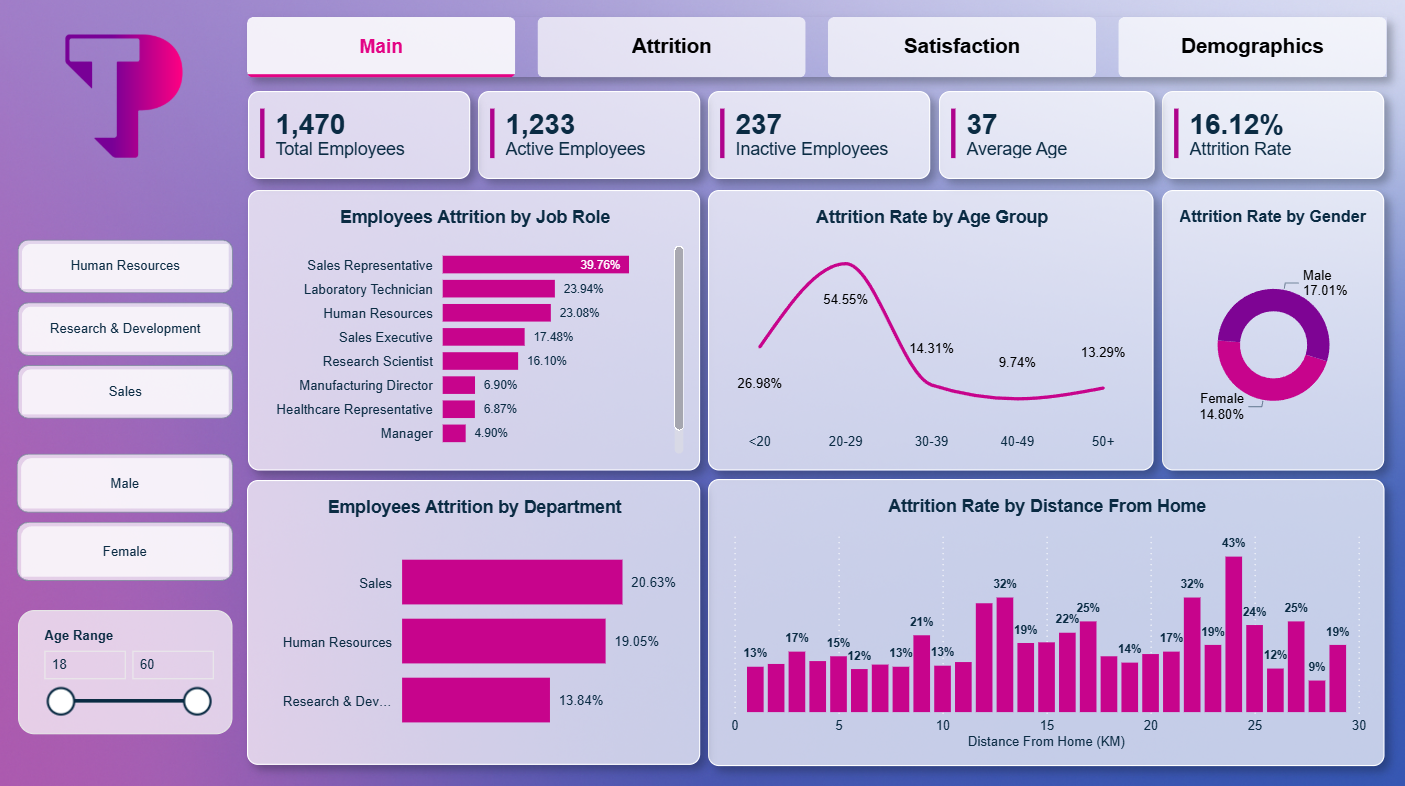

This screenshot's page, from the dashboard's own definition file:
{"tool":"powerbi","page":{"name":"Employee Attrition and Satisfaction","canvas":[1280,720],"ordinal":0},"visuals":[{"type":"multiRowCard","title":"Attrition Rate","fields":{"Values":["DAX Measures.Attrition Rate"]},"box":[1058,86,202,79.9],"z":0},{"type":"bookmarkNavigator","box":[226,19,1036,55],"z":1000},{"type":"multiRowCard","title":"Inactive Employees","fields":{"Values":["DAX Measures.InactiveEmployees"]},"box":[645.8,86,202,79.9],"z":2000},{"type":"multiRowCard","title":"Active Employees","fields":{"Values":["DAX Measures.ActiveEmployees"]},"box":[436.6,86,202,79.9],"z":3000},{"type":"clusteredBarChart","title":"Employees Attrition by Job Role","fields":{"Category":["FactEmployee.JobRole"],"Y":["DAX Measures.AttritionRate"]},"box":[227.3,176.4,410.9,254.5],"z":4000},{"type":"donutChart","title":"Attrition Rate by Gender","fields":{"Category":["FactEmployee.Gender"],"Y":["DAX Measures.Attrition Rate"]},"box":[1058.2,176.4,201.8,254.5],"z":5000},{"type":"lineChart","title":"Attrition Rate by Age Group","fields":{"Category":["FactEmployee.AgeBins"],"Y":["DAX Measures.Attrition Rate"]},"box":[645.5,176.4,405.5,254.5],"z":7000},{"type":"multiRowCard","title":"Average Age","fields":{"Values":["DAX Measures.AvgAge"]},"box":[855,86,195.8,79.9],"z":12000},{"type":"columnChart","title":"Attrition Rate by Distance From Home","fields":{"Y":["DAX Measures.Attrition Rate"],"Category":["FactEmployee.DistanceFromHome"]},"box":[645.5,439.1,614.5,260.9],"z":13000},{"type":"advancedSlicerVisual","fields":{"Values":["Department.Department"]},"box":[12.9,206.4,206.4,195],"z":14000},{"type":"advancedSlicerVisual","fields":{"Values":["FactEmployee.Gender"]},"box":[12.2,401.2,207.2,147.5],"z":15000},{"type":"clusteredBarChart","title":"Employees Attrition by Department","fields":{"Y":["DAX Measures.AttritionRate"],"Category":["FactEmployee.Department Hierarchy.Department","FactEmployee.Department Hierarchy.JobRole"]},"box":[226.4,440,411.8,259.1],"z":17000},{"type":"image","box":[0,20,228.2,141.8],"z":19000},{"type":"multiRowCard","title":"Total Employees","fields":{"Values":["DAX Measures.TotalEmployees"]},"box":[227.4,86,202,79.9],"z":20000},{"type":"slicer","fields":{"Values":["FactEmployee.Age"]},"box":[18.2,558.2,195.5,112.7],"z":33000}]}

Visuals, with their boxes in screenshot pixels (x1, y1, x2, y2), scaled from the page's 1280x720 canvas onto the 1405x786 screenshot:
"Attrition Rate" multiRowCard: x1=1161, y1=94, x2=1383, y2=181
bookmarkNavigator: x1=248, y1=21, x2=1385, y2=81
"Inactive Employees" multiRowCard: x1=709, y1=94, x2=931, y2=181
"Active Employees" multiRowCard: x1=479, y1=94, x2=701, y2=181
"Employees Attrition by Job Role" clusteredBarChart: x1=249, y1=193, x2=701, y2=470
"Attrition Rate by Gender" donutChart: x1=1162, y1=193, x2=1383, y2=470
"Attrition Rate by Age Group" lineChart: x1=709, y1=193, x2=1154, y2=470
"Average Age" multiRowCard: x1=938, y1=94, x2=1153, y2=181
"Attrition Rate by Distance From Home" columnChart: x1=709, y1=479, x2=1383, y2=764
advancedSlicerVisual - Department.Department: x1=14, y1=225, x2=241, y2=438
advancedSlicerVisual - FactEmployee.Gender: x1=13, y1=438, x2=241, y2=599
"Employees Attrition by Department" clusteredBarChart: x1=249, y1=480, x2=701, y2=763
image: x1=0, y1=22, x2=250, y2=177
"Total Employees" multiRowCard: x1=250, y1=94, x2=471, y2=181
slicer - FactEmployee.Age: x1=20, y1=609, x2=235, y2=732
